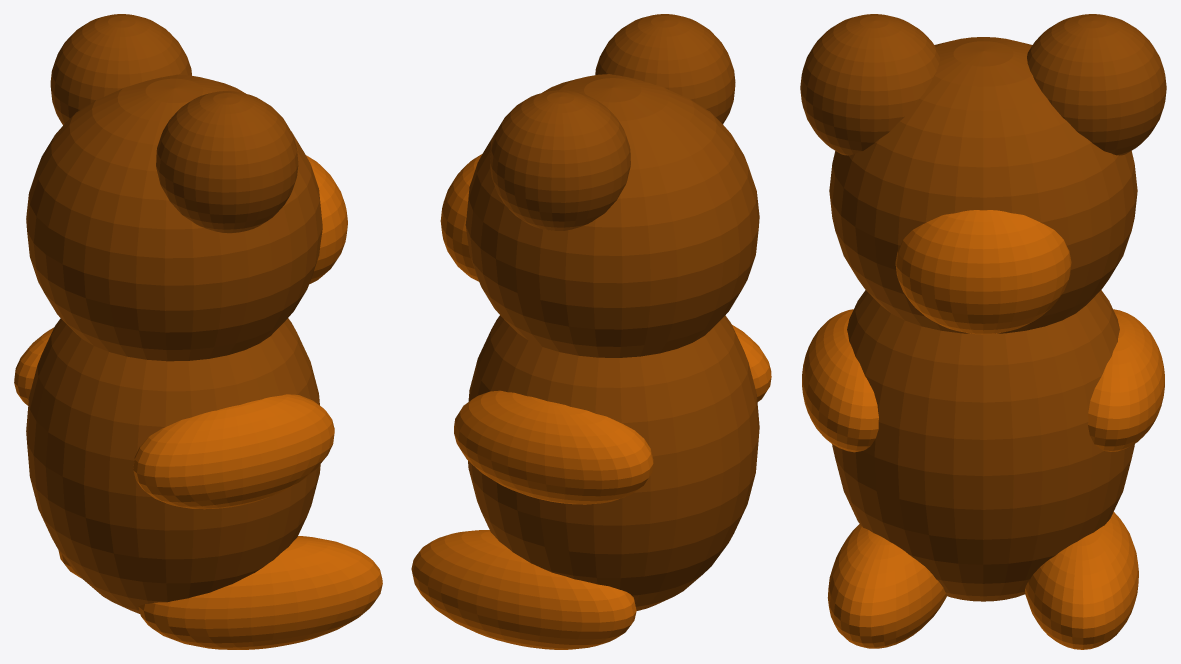
The model's file is teddybear.glb.
3 renders of one model, left to right at view 1: azimuth 30°, elevation 25°; view 2: azimuth 150°, elevation 25°; view 3: azimuth 270°, elevation 25°, orthographic. The views are drawn at different scales.
Visible parts, largest first — view 1: Sphere.001, Sphere, Sphere.005, Sphere.007, Sphere.003, Sphere.002, Sphere.004, Sphere.006; view 2: Sphere.001, Sphere, Sphere.008, Sphere.006, Sphere.002, Sphere.003, Sphere.004, Sphere.005; view 3: Sphere, Sphere.001, Sphere.004, Sphere.002, Sphere.003, Sphere.008, Sphere.007, Sphere.005, Sphere.006.
Part boxes in pixels (<box>): Sphere.001: <box>26,74,322,361</box>; Sphere: <box>26,318,320,613</box>; Sphere.005: <box>133,394,334,509</box>; Sphere.007: <box>138,536,382,649</box>; Sphere.003: <box>156,91,298,233</box>; Sphere.002: <box>50,14,191,125</box>; Sphere.004: <box>306,155,347,284</box>; Sphere.006: <box>14,327,53,405</box>; Sphere.001: <box>465,74,759,357</box>; Sphere: <box>468,315,759,610</box>; Sphere.008: <box>411,530,636,649</box>; Sphere.006: <box>454,390,653,504</box>; Sphere.002: <box>490,90,630,231</box>; Sphere.003: <box>595,14,735,123</box>; Sphere.004: <box>440,154,482,281</box>; Sphere.005: <box>732,325,771,401</box>; Sphere: <box>832,290,1134,601</box>; Sphere.001: <box>829,37,1137,333</box>; Sphere.004: <box>895,210,1071,334</box>; Sphere.002: <box>1027,14,1166,155</box>; Sphere.003: <box>800,14,939,155</box>; Sphere.008: <box>1025,512,1138,649</box>; Sphere.007: <box>827,524,947,648</box>; Sphere.005: <box>802,309,878,452</box>; Sphere.006: <box>1088,309,1164,451</box>.
Bounding box in the file's own units: 2.38 × 4.43 × 2.52.
